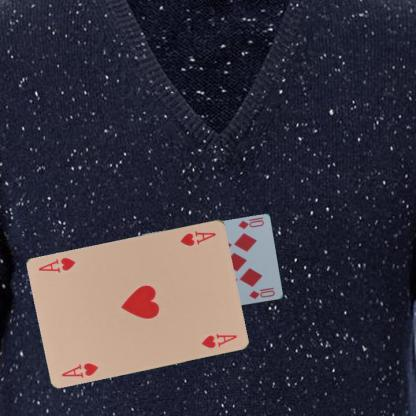10d: (235, 217, 264, 231)
Ah: (59, 359, 100, 379), (178, 228, 218, 247)
